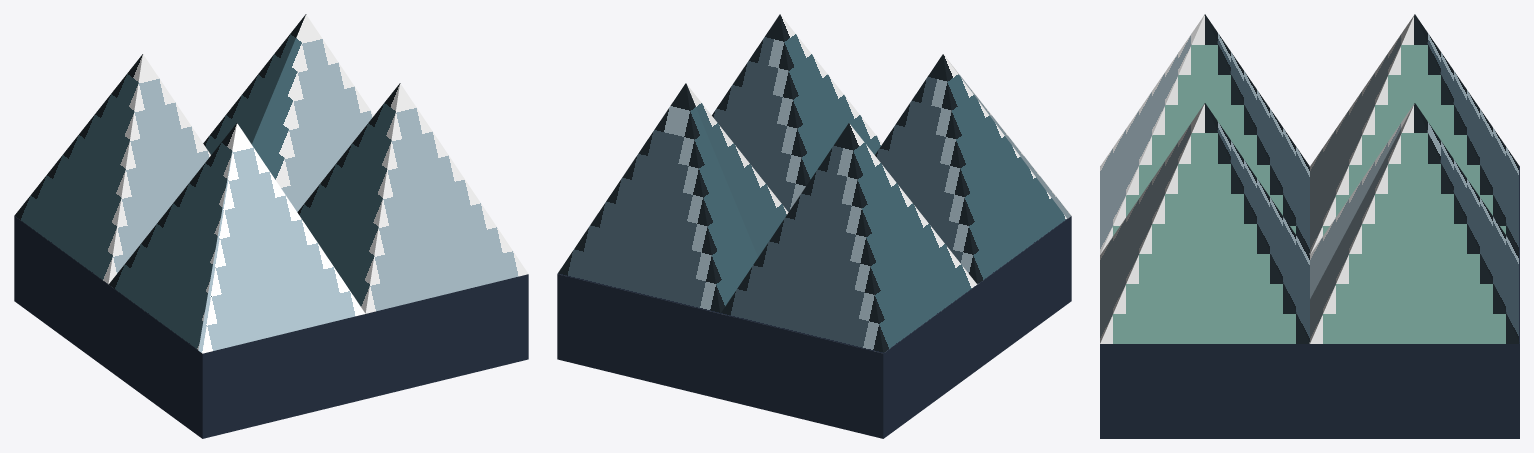
Rendered from groundSpike01.fbx.
The picture shows the model from 3 angles, left to right: view 1: azimuth 30°, elevation 25°; view 2: azimuth 150°, elevation 25°; view 3: azimuth 270°, elevation 25°; orthographic projection. The views are drawn at different scales.
Visible parts, largest first — view 1: groundSpike01; view 2: groundSpike01; view 3: groundSpike01.
Part boxes in pixels (x1,y1,x2,y2): groundSpike01: [14, 14, 528, 438]; groundSpike01: [557, 14, 1071, 438]; groundSpike01: [1100, 14, 1519, 438].
Size of the model in its own units: 100 by 76.75 by 100.
Materials: 1 (1 with a texture image).
